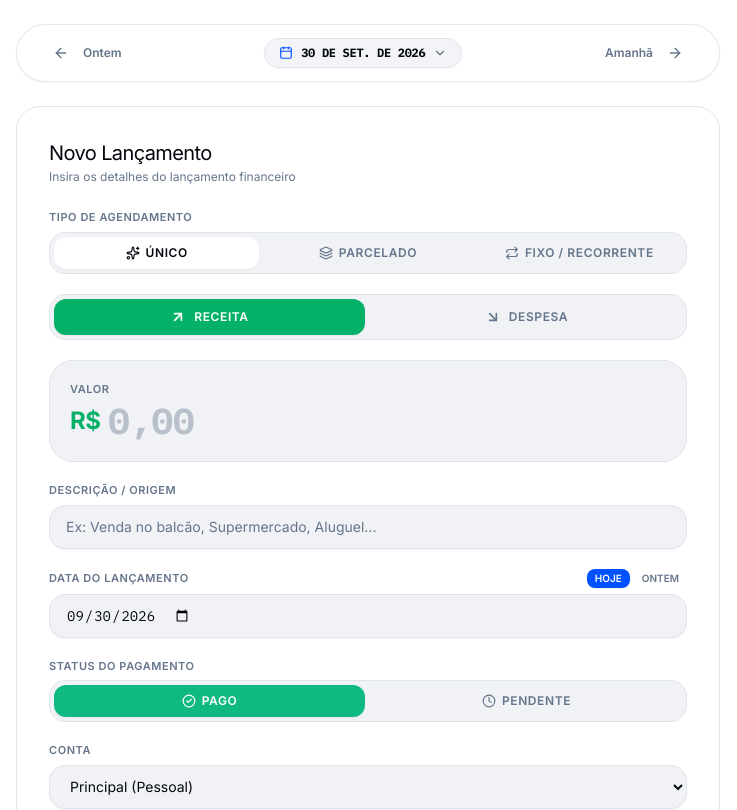
it: LancamentosPage.jsx › Renderização e Navegação › deve permitir selecionar uma data retroativa de vários dias atrás pelo input de data e recarregar transações
The image size is (737, 810).
// Mudar a data no seletor de navegação para 30 dias atrás (ex: 2026-08-01)
Type "2026-08-01" into the date field named "Selecionar data do lançamento" at (363, 53), box [264, 38, 462, 68]
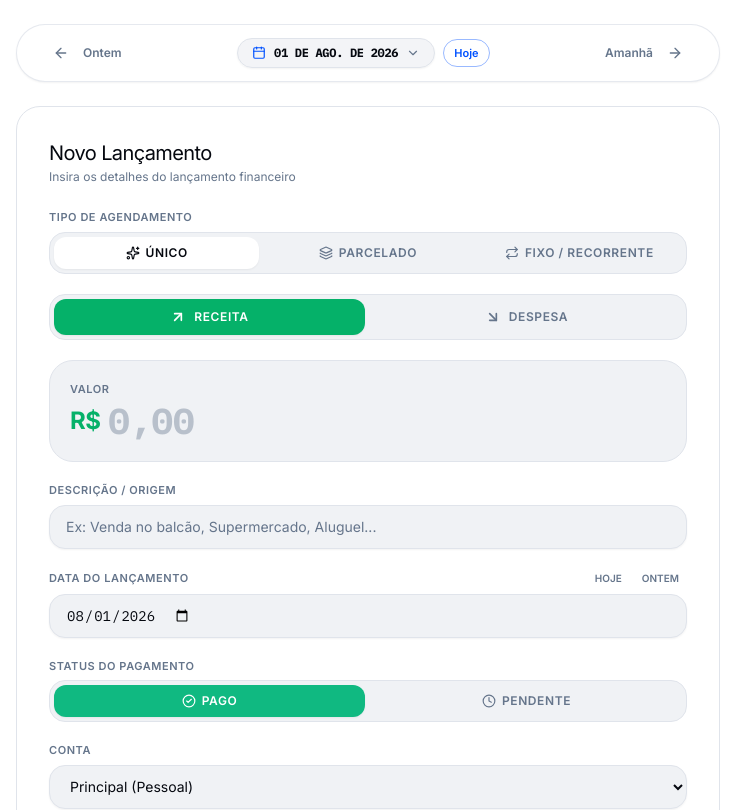
// Clicar em Hoje para voltar instantaneamente à data atual
Click the 1st button titled "Voltar para Hoje" at (466, 53), box [443, 39, 490, 67]
(page scrolled)
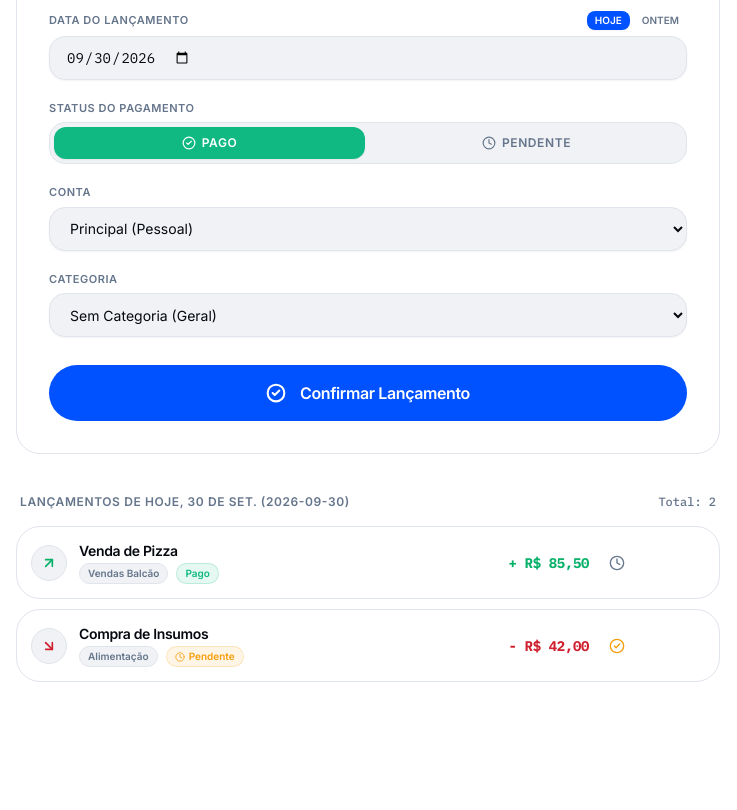
Expected: the heading "Lançamentos de Hoje, 30 de set. (2026-09-30)" is shown, [20, 494, 350, 510]
